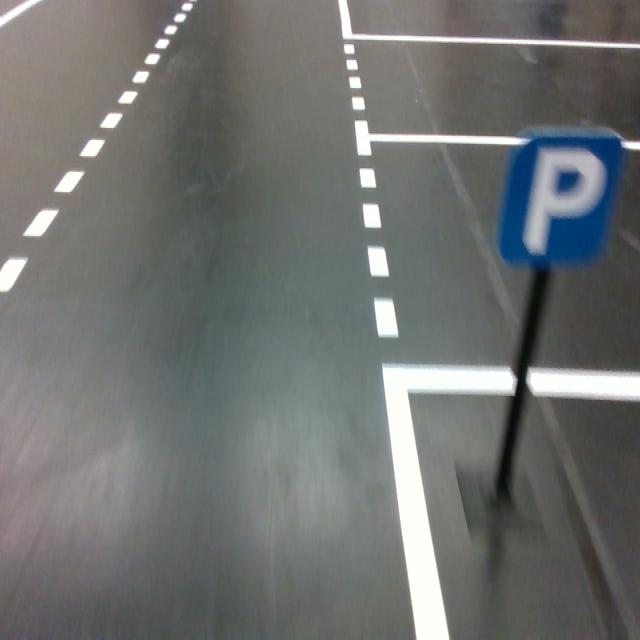parking-sign: (494, 126, 628, 270)
